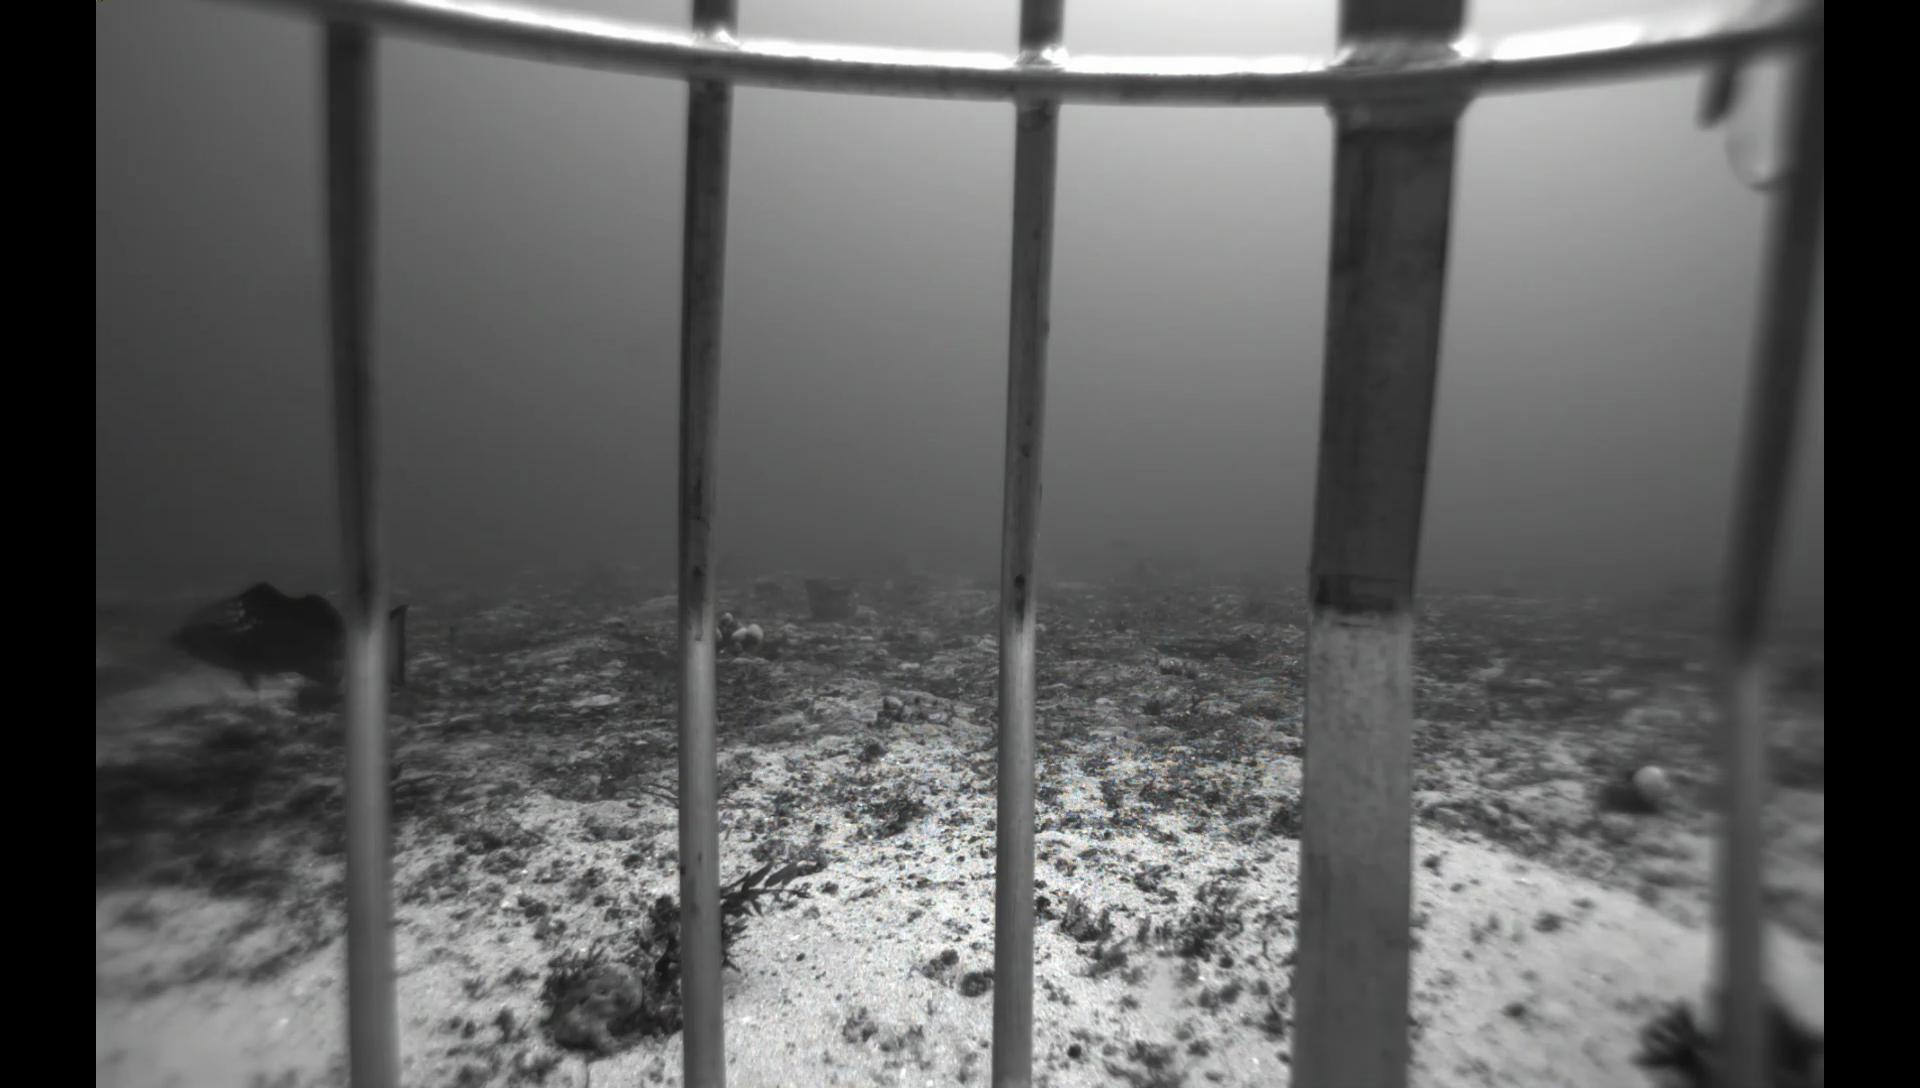CHAETODONOCELLATUS-170260307: (876, 578, 899, 595), (661, 574, 678, 593)
EPINEPHELUSMORIO-170021211: (161, 575, 415, 702)
PRISTIGENYSALTA-170050401: (284, 684, 345, 721)
